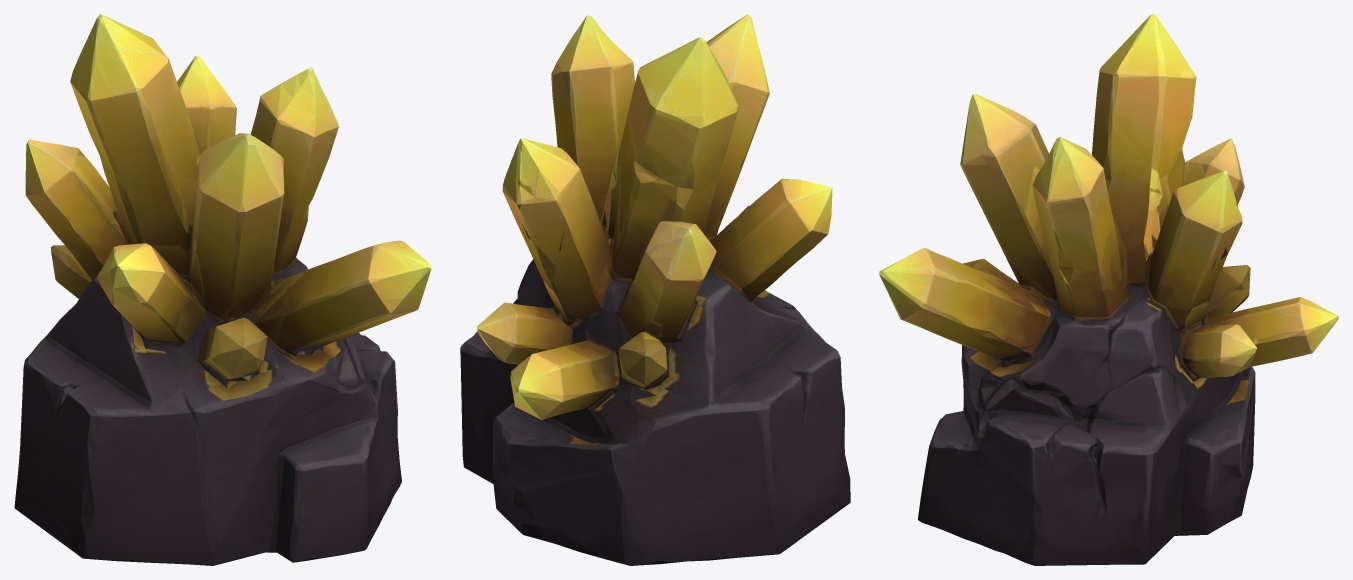
Rendered from brimstone_cluster.glb.
3 views of the same model, side by side, from view 1: azimuth 30°, elevation 25°; view 2: azimuth 150°, elevation 25°; view 3: azimuth 270°, elevation 25° (orthographic). The views are drawn at different scales.
Visible parts, largest first — view 1: tripo_node_988d9057-601d-446a-a23b-54c689cb6526.001; view 2: tripo_node_988d9057-601d-446a-a23b-54c689cb6526.001; view 3: tripo_node_988d9057-601d-446a-a23b-54c689cb6526.001.
Boxes of the visible parts, bbox=[...] form: tripo_node_988d9057-601d-446a-a23b-54c689cb6526.001: bbox=[14, 14, 431, 565]; tripo_node_988d9057-601d-446a-a23b-54c689cb6526.001: bbox=[460, 14, 850, 565]; tripo_node_988d9057-601d-446a-a23b-54c689cb6526.001: bbox=[879, 14, 1338, 565].
Bounding box in the file's own units: 0.6944 × 0.9956 × 0.9302.
Materials: 1 (1 with a texture image).
